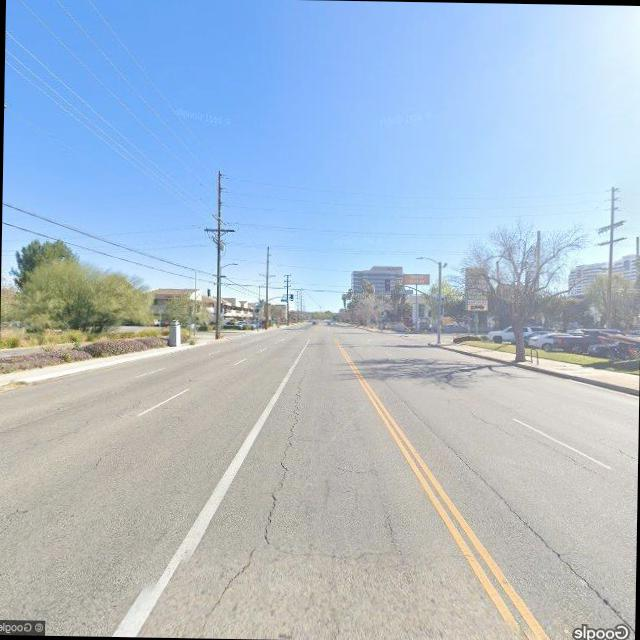crack: (466, 407, 604, 474), (261, 368, 309, 548), (202, 541, 264, 632), (70, 447, 119, 482), (597, 436, 638, 464), (382, 508, 405, 556)
